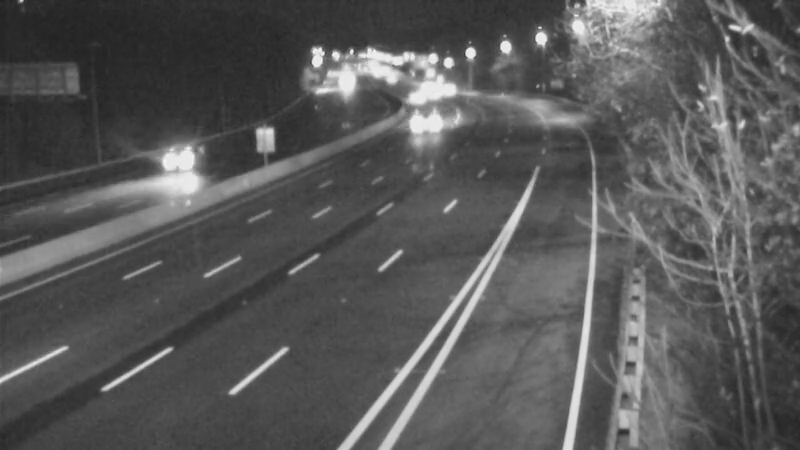vehicle: (152, 118, 232, 198), (384, 73, 434, 123), (402, 95, 452, 145)
